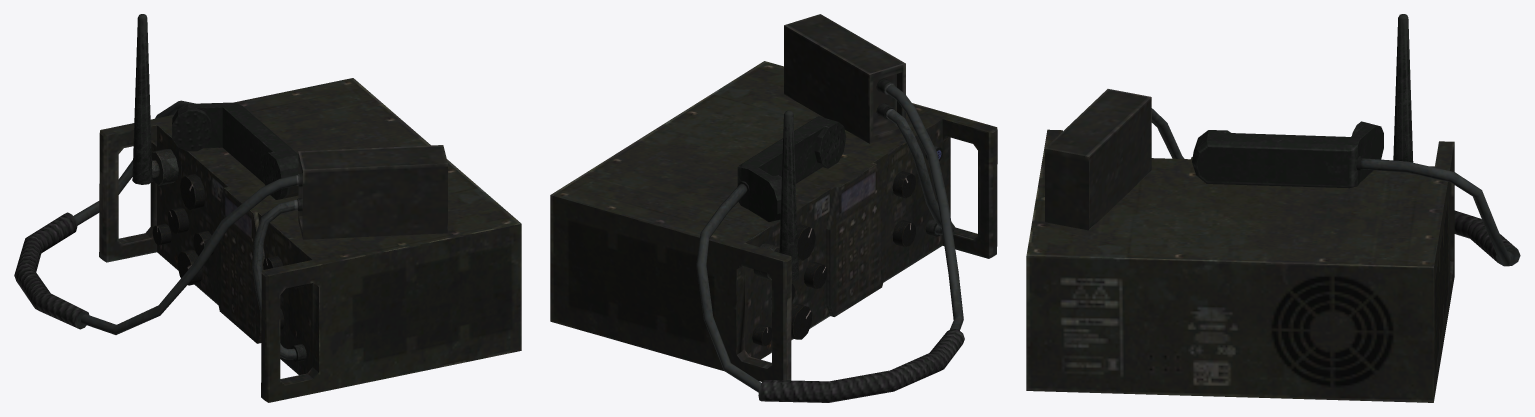
Rendered from rfs_hack_beacon.fbx.
The picture shows the model from 3 angles, left to right: view 1: azimuth 30°, elevation 25°; view 2: azimuth 150°, elevation 25°; view 3: azimuth 270°, elevation 25°; orthographic projection. The views are drawn at different scales.
Parts seen in each view (by area): view 1: rfs_hack_beacon; view 2: rfs_hack_beacon; view 3: rfs_hack_beacon.
Part boxes in pixels (bbox=[...]): rfs_hack_beacon: bbox=[14, 14, 521, 402]; rfs_hack_beacon: bbox=[550, 14, 997, 402]; rfs_hack_beacon: bbox=[1026, 14, 1520, 402].
Size of the model in its own units: 1.47 by 1 by 1.65.
